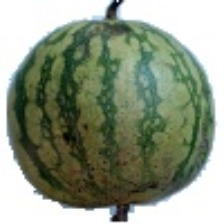watermelon: (44, 37, 217, 173)
